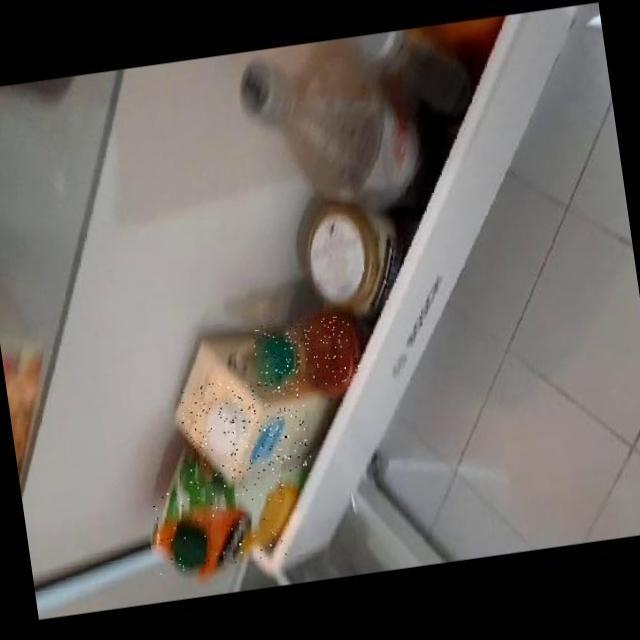juice: (150, 474, 294, 574)
milk: (177, 370, 314, 485)
sauce: (250, 312, 361, 395)
